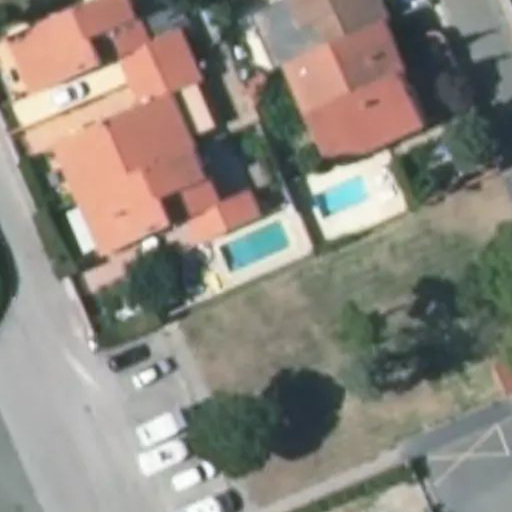pool: (218, 222, 290, 270), (314, 174, 373, 220)
